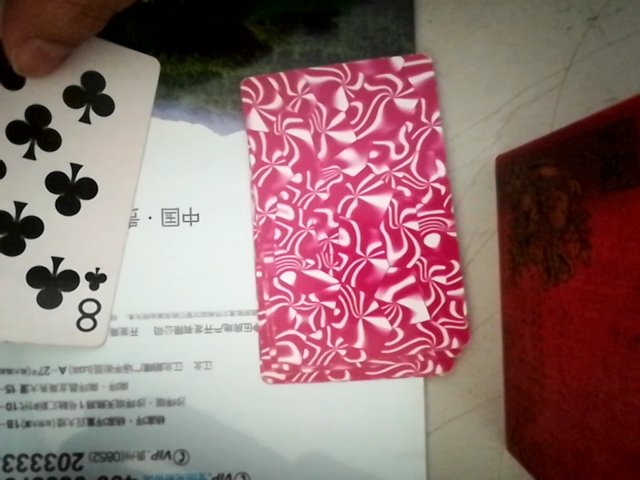mh 8: (0, 26, 160, 350)
